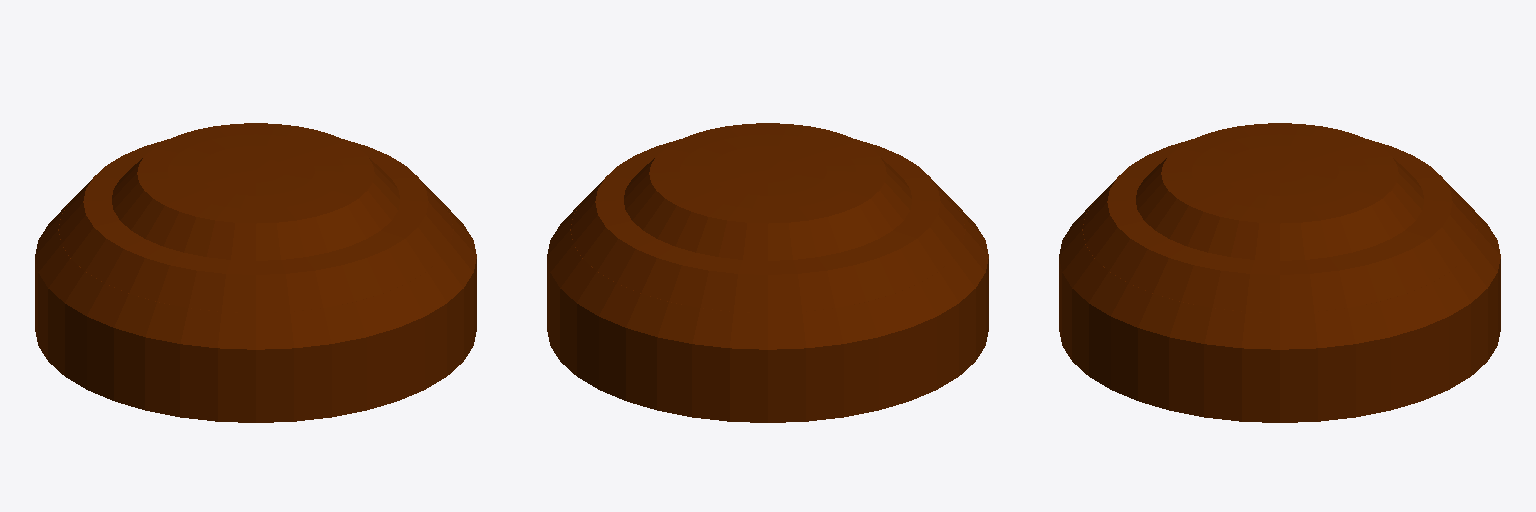
The model's file is ketel.obj.
3 renders of one model, left to right at view 1: azimuth 30°, elevation 25°; view 2: azimuth 150°, elevation 25°; view 3: azimuth 270°, elevation 25°, orthographic.
Parts seen in each view (by area): view 1: Oil_Tank; view 2: Oil_Tank; view 3: Oil_Tank.
Boxes of the visible parts, x1=… form: Oil_Tank: x1=35, y1=123, x2=476, y2=422; Oil_Tank: x1=547, y1=123, x2=988, y2=422; Oil_Tank: x1=1059, y1=123, x2=1500, y2=422.
Bounding box in the file's own units: 0.4162 × 0.1787 × 0.4162.